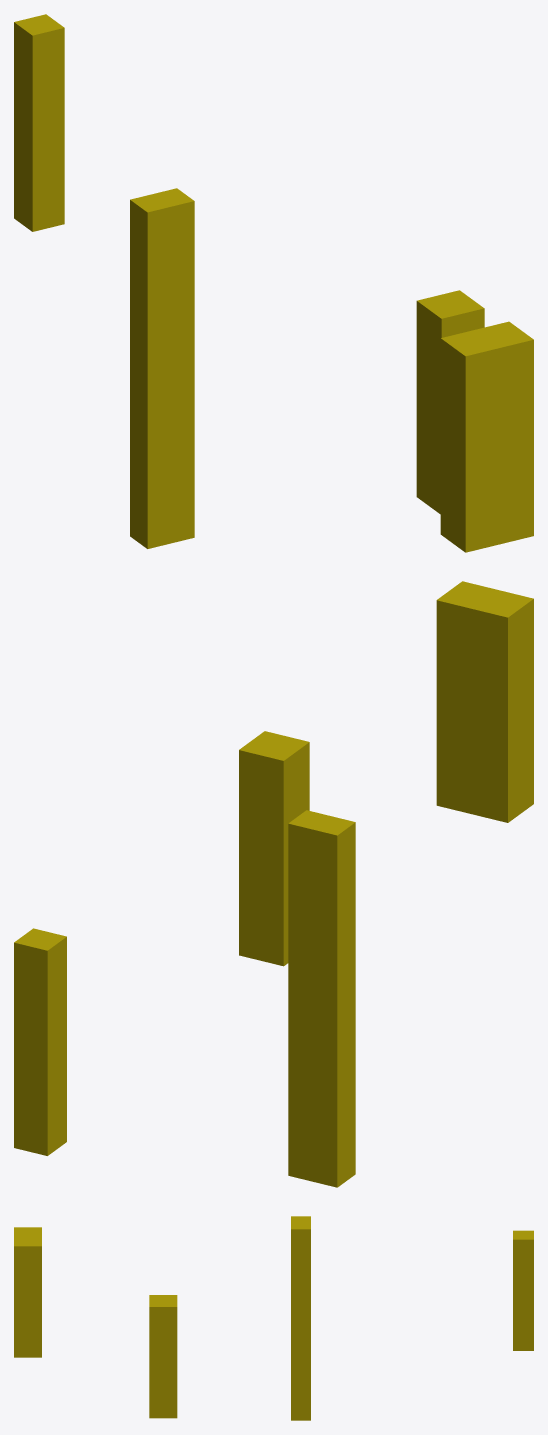
File: Platforms.fbx
3 views of the same model, one above another, from view 1: azimuth 30°, elevation 25°; view 2: azimuth 150°, elevation 25°; view 3: azimuth 270°, elevation 25° (orthographic). The views are drawn at different scales.
Visible parts, largest first — view 1: Platforms; view 2: Platforms; view 3: Platforms.
Boxes of the visible parts, x1=… form: Platforms: x1=14, y1=14, x2=533, y2=552; Platforms: x1=14, y1=581, x2=533, y2=1187; Platforms: x1=14, y1=1216, x2=533, y2=1420.
Bounding box in the file's own units: 1581 × 2520 × 5920.
